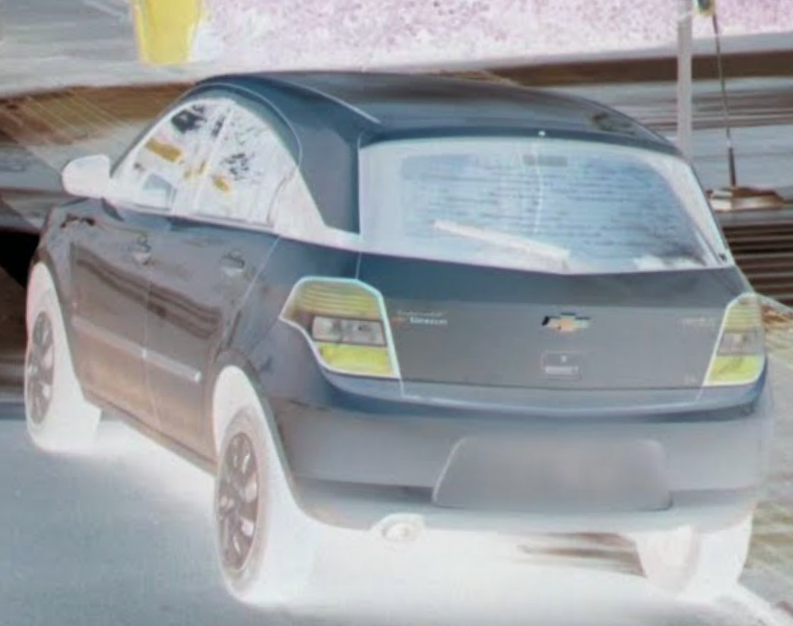car: (20, 69, 772, 612)
